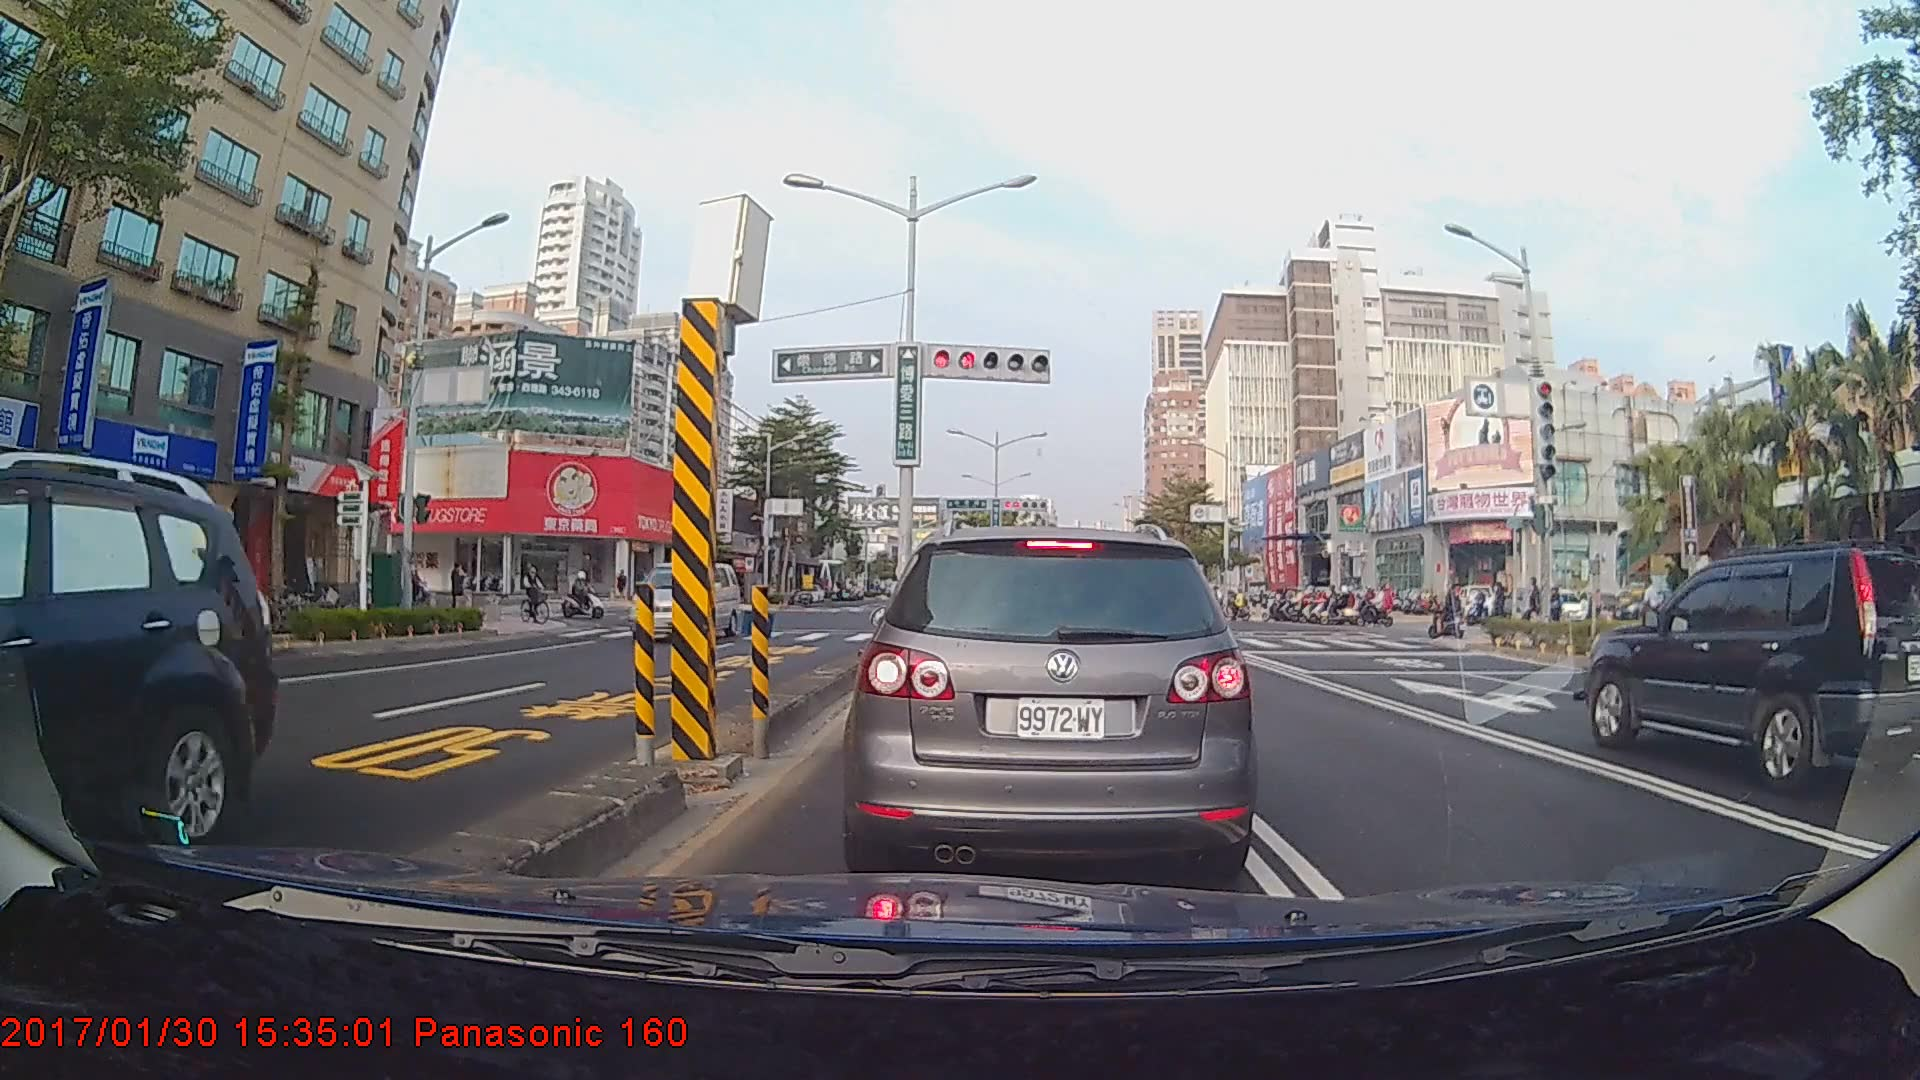pedestrian: (1643, 576, 1666, 635), (447, 563, 467, 620)
rider: (562, 566, 609, 619), (1423, 581, 1464, 636), (522, 566, 551, 627)
vehicle: (840, 518, 1259, 881), (0, 476, 279, 867), (1581, 545, 1920, 796), (626, 562, 742, 643)
